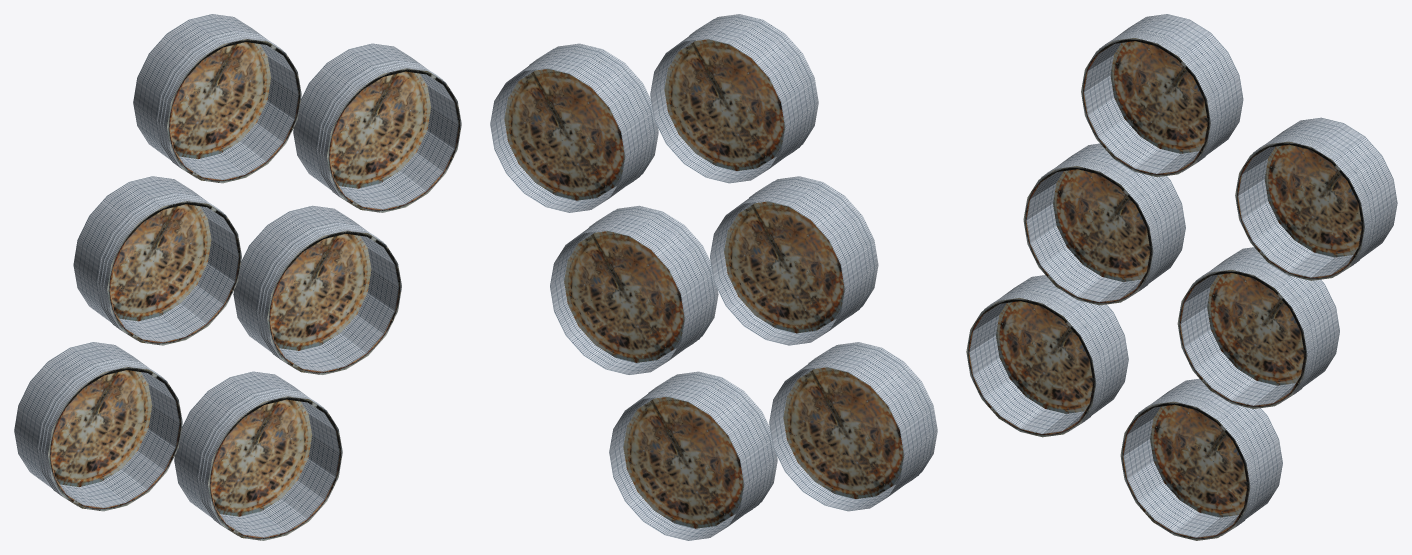
The model's file is p6b_jar_white02.fbx.
3 views of the same model, side by side, from view 1: azimuth 30°, elevation 25°; view 2: azimuth 150°, elevation 25°; view 3: azimuth 330°, elevation 25° (orthographic). The views are drawn at different scales.
Visible parts, largest first — view 1: p6b_jar_white02; view 2: p6b_jar_white02; view 3: p6b_jar_white02.
Part boxes in pixels (<box>): p6b_jar_white02: <box>14,14,461,540</box>; p6b_jar_white02: <box>490,14,937,540</box>; p6b_jar_white02: <box>966,14,1397,540</box>.
Bounding box in the file's own units: 14890 × 17408 × 2101.
